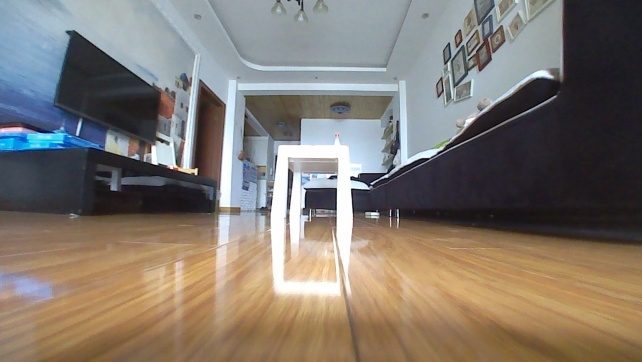TV_stand: (0, 140, 220, 216)
sofa: (298, 0, 641, 239)
